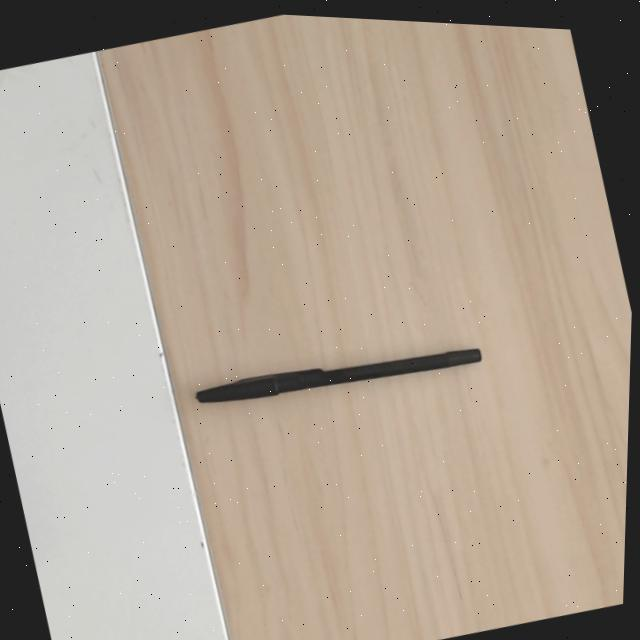Pulpen-Hitam: (191, 340, 482, 408)
